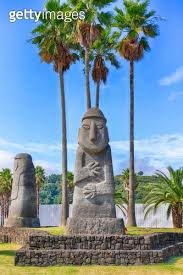Stone Statue: (63, 104, 129, 239)
